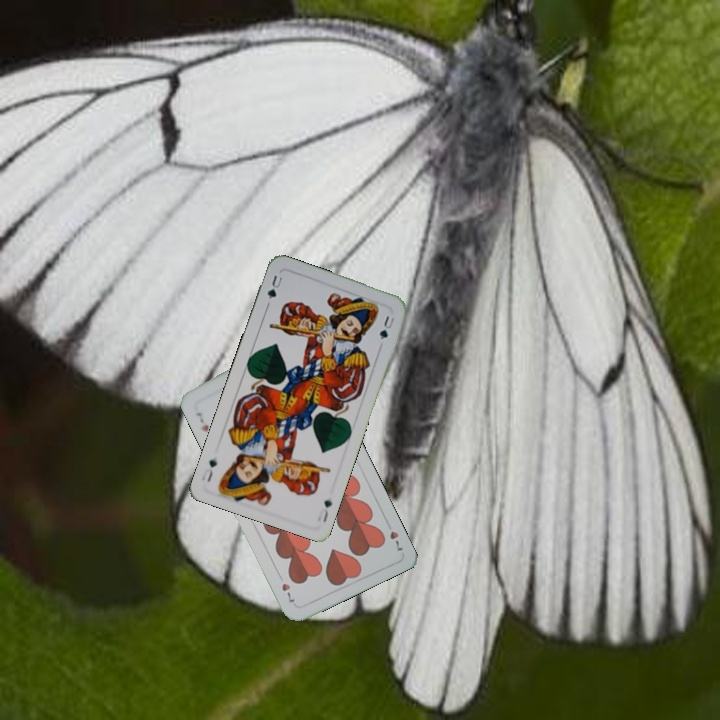GU: (263, 271, 285, 308), (314, 495, 335, 525)
H7: (382, 517, 406, 553), (192, 408, 211, 434)
